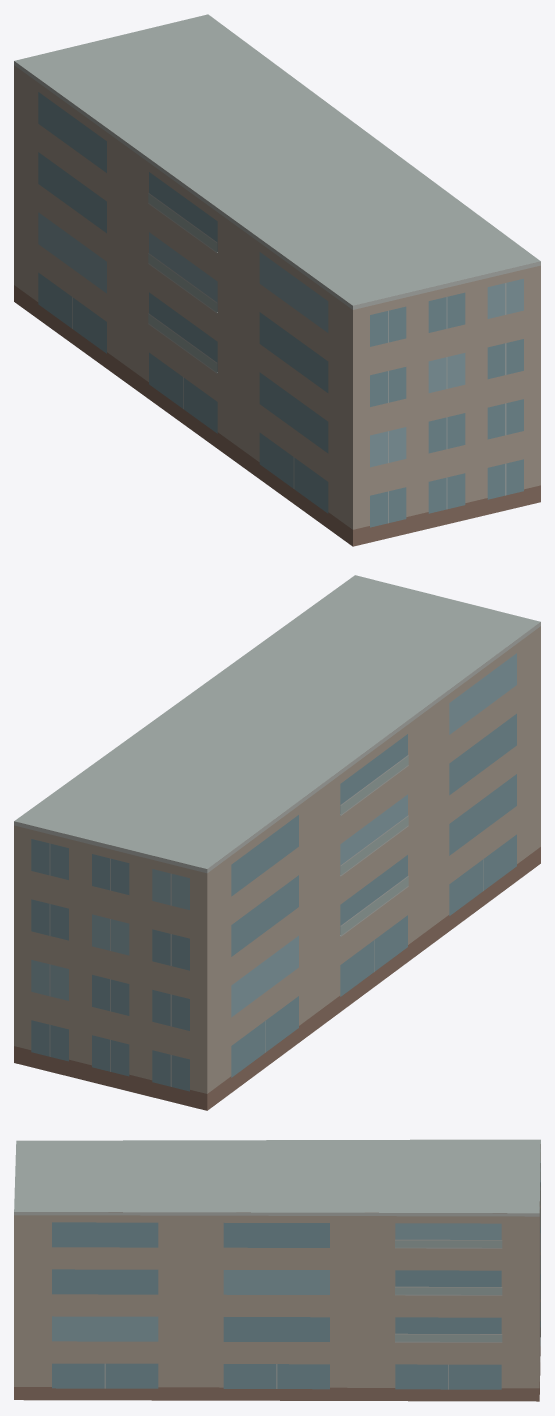
File: survey-upis-33029244.glb
The picture shows the model from 3 angles, top to bottom: view 1: azimuth 30°, elevation 25°; view 2: azimuth 150°, elevation 25°; view 3: azimuth 270°, elevation 25°; orthographic projection. The views are drawn at different scales.
Parts seen in each view (by area): view 1: survey-upis-33029244.tmp; view 2: survey-upis-33029244.tmp; view 3: survey-upis-33029244.tmp.
Part boxes in pixels (x1,y1,x2,y2): survey-upis-33029244.tmp: [14, 14, 540, 546]; survey-upis-33029244.tmp: [14, 575, 540, 1110]; survey-upis-33029244.tmp: [14, 1139, 540, 1401].
Bounding box in the file's own units: 11.71 × 13.9 × 35.27.
